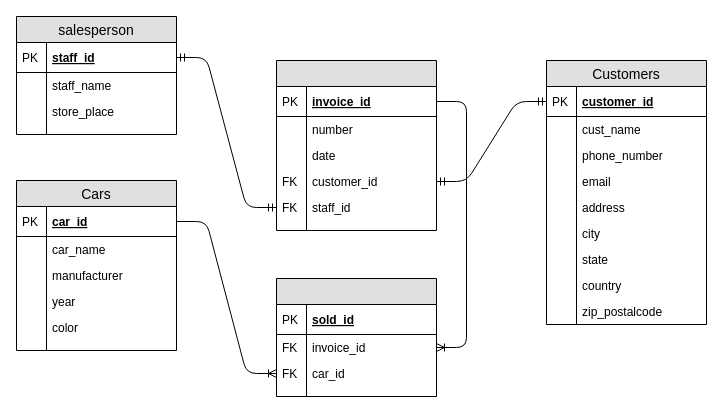
The diagram is 723 pixels wide and 413 high, and some of its shapes have lost their labels. The shapes that lost their labels are listed below. From the top down, each one's box as (x1, y1, x2, y2) in pixels, then its label:
(276, 60, 436, 230): Invoices
(276, 278, 436, 396): cars_sold
